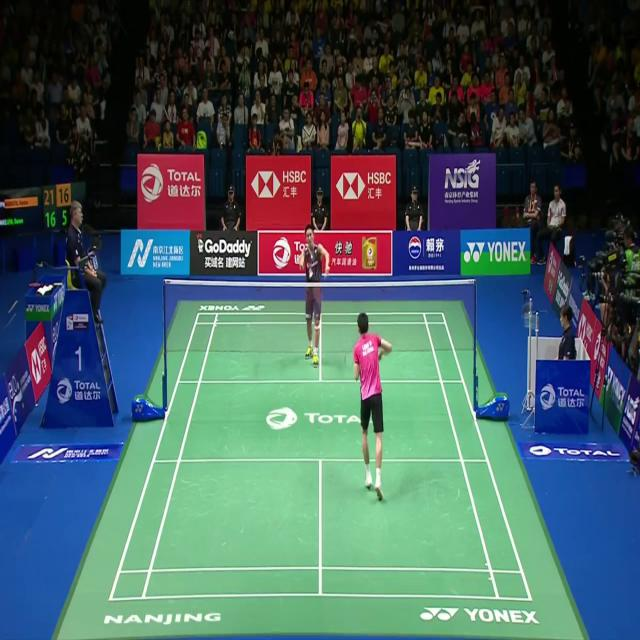Shuttlecock: (308, 268, 314, 280)
